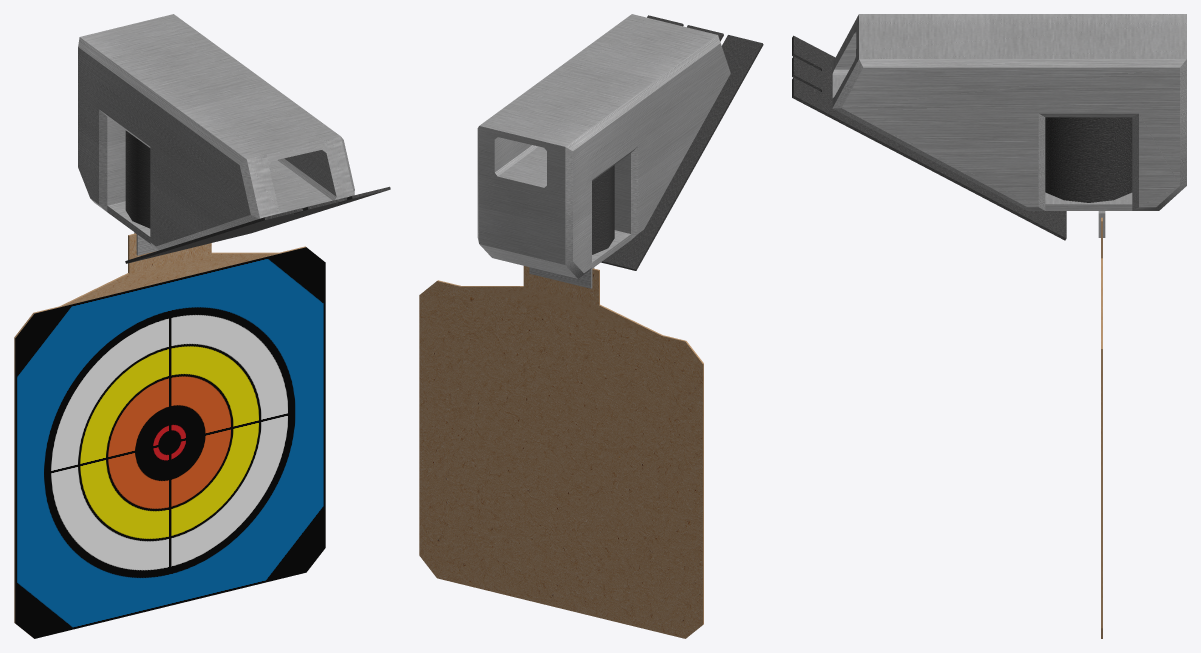
File: ShootingTarget.fbx
The picture shows the model from 3 angles, left to right: view 1: azimuth 30°, elevation 25°; view 2: azimuth 150°, elevation 25°; view 3: azimuth 270°, elevation 25°; orthographic projection. The views are drawn at different scales.
Visible parts, largest first — view 1: Target, Slider; view 2: Target, Slider; view 3: Slider, Target.
Boxes of the visible parts, box(x1,y1,x2,y2) form: Target: box(14, 233, 325, 638); Slider: box(78, 14, 390, 263); Target: box(419, 266, 703, 638); Slider: box(477, 14, 763, 288); Slider: box(792, 14, 1186, 240); Target: box(1101, 217, 1102, 638).
Bounding box in the file's own units: 58.32 × 98.4 × 65.52.
Materials: 4 (4 with a texture image).
